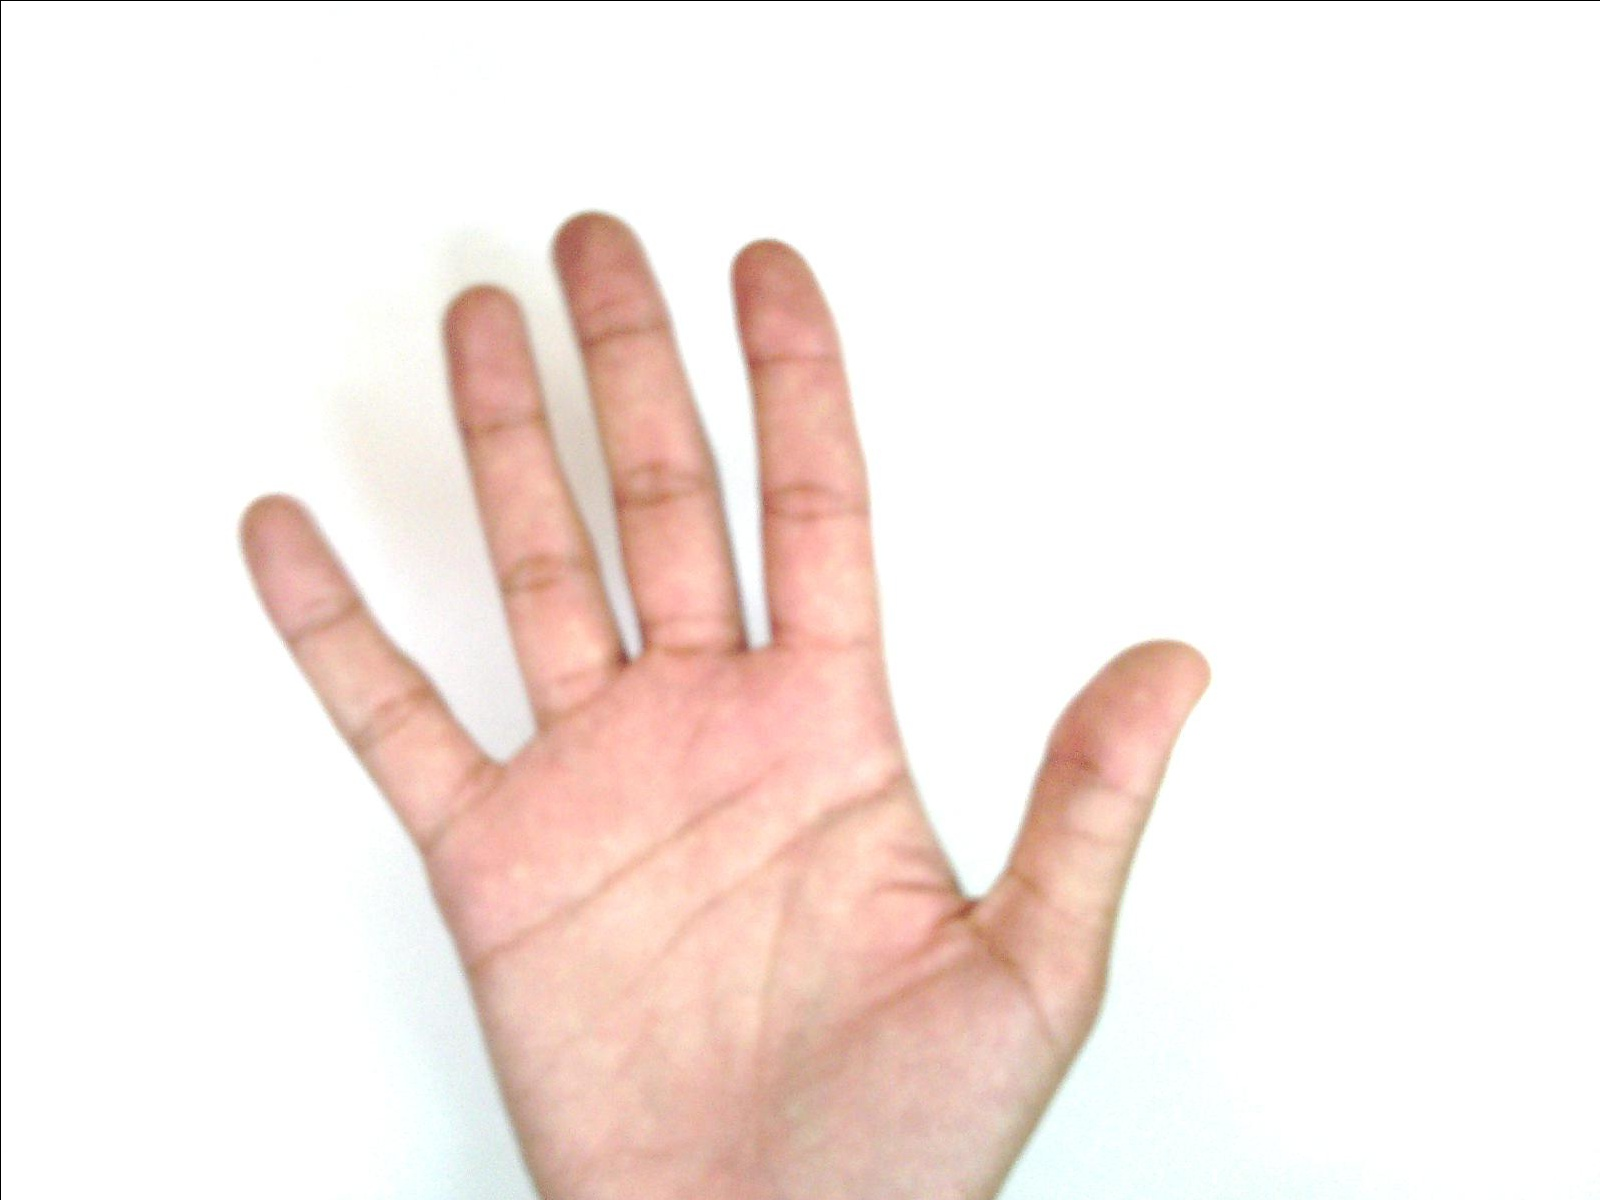5-hand: (238, 214, 1204, 1200)
